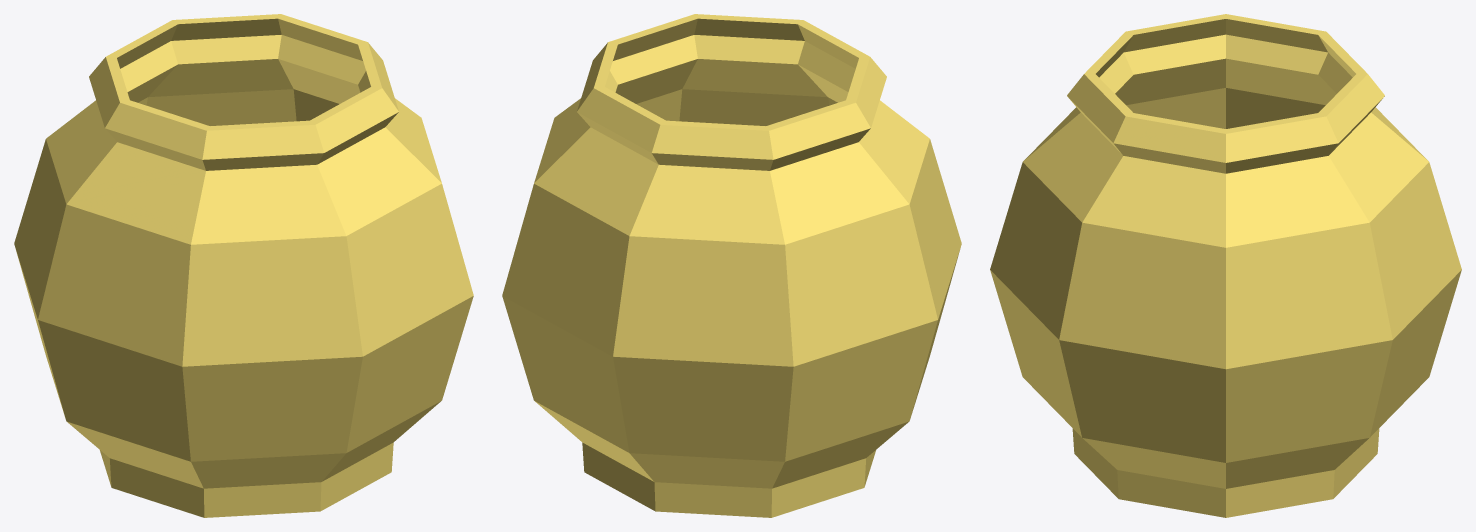
Rendered from Pot_empty_1.fbx.
3 views of the same model, side by side, from view 1: azimuth 30°, elevation 25°; view 2: azimuth 150°, elevation 25°; view 3: azimuth 270°, elevation 25° (orthographic).
Visible parts, largest first — view 1: Pot_empty_1; view 2: Pot_empty_1; view 3: Pot_empty_1.
Part boxes in pixels (x1,y1,x2,y2): Pot_empty_1: (14, 14, 473, 517); Pot_empty_1: (502, 14, 961, 517); Pot_empty_1: (990, 14, 1461, 517).
Bounding box in the file's own units: 18.45 × 18.45 × 16.6.
